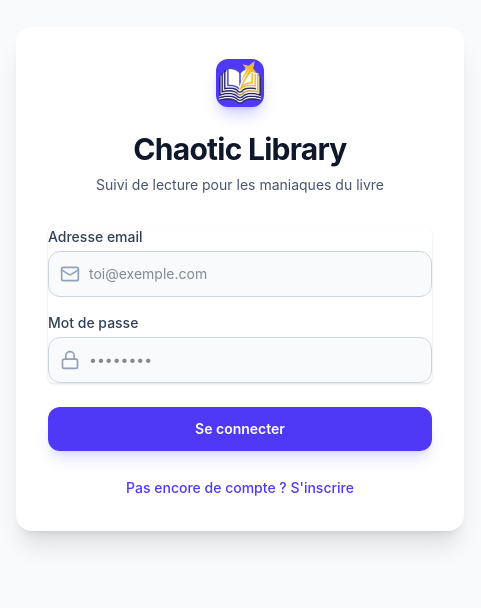
Test case: Component - Auth › devrait basculer l'affichage lors du clic sur le bouton d'inscription
This screenshot has width=481, height=608.
Click the button "Pas encore de compte ? S'inscrire".
click(240, 488)  # box [126, 478, 354, 498]
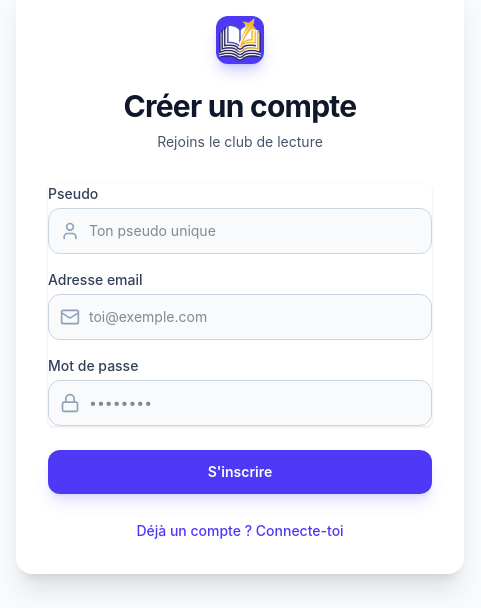
Now the heading "Créer un compte" is shown, box [124, 88, 356, 124]
Now the button "S'inscrire" is shown, box [48, 450, 432, 494]
Now the button "Déjà un compte ? Connecte-toi" is shown, box [136, 521, 344, 541]
